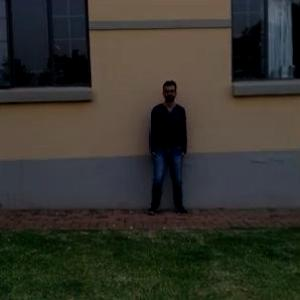follow: (147, 78, 187, 216)
